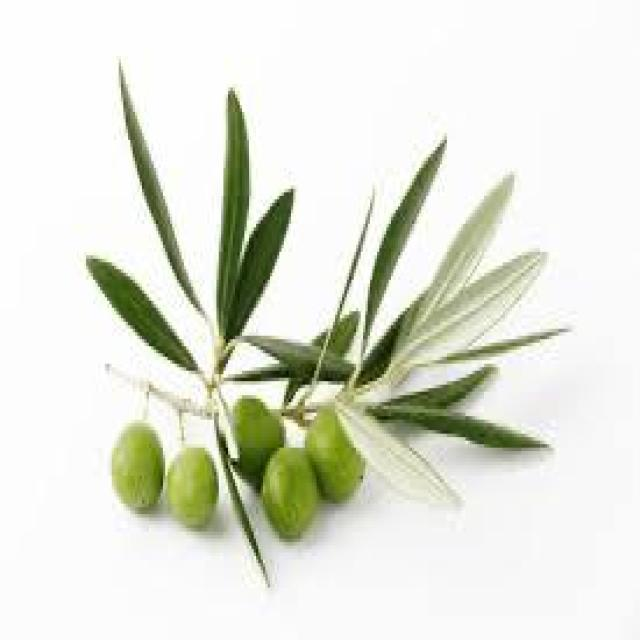Healthy: (121, 66, 205, 318), (86, 255, 198, 371), (226, 189, 291, 339), (109, 420, 163, 518), (261, 448, 317, 535), (168, 444, 216, 528)
